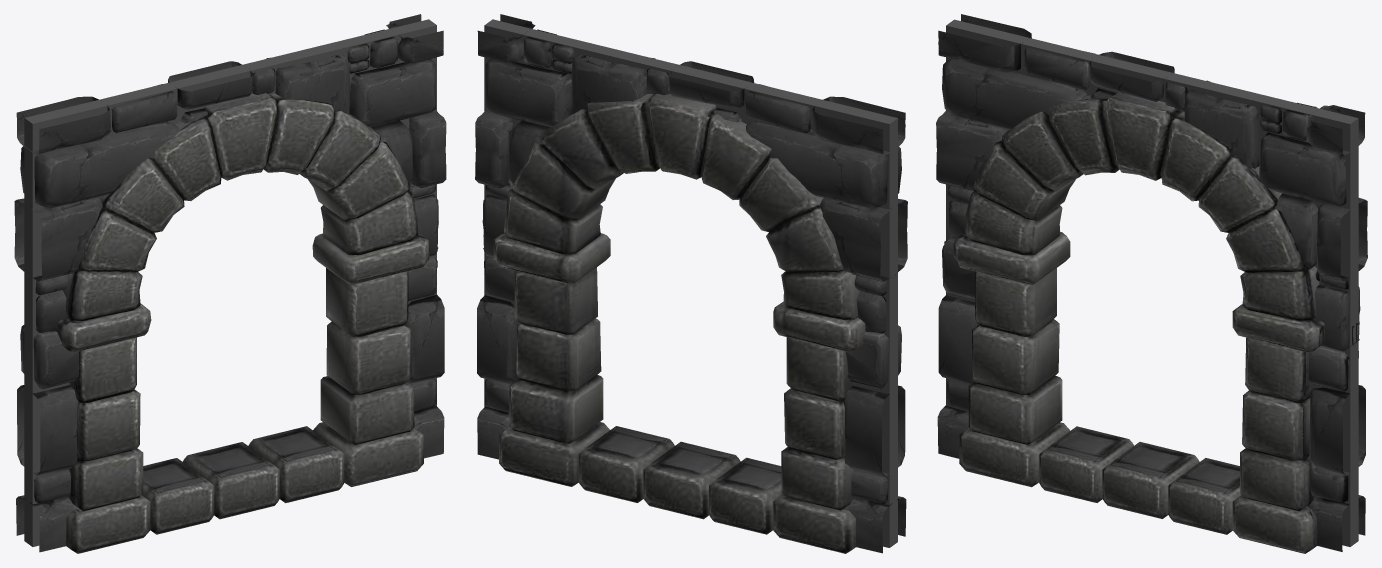
Rendered from Arch_04_onLedge.fbx.
3 renders of one model, left to right at view 1: azimuth 30°, elevation 25°; view 2: azimuth 150°, elevation 25°; view 3: azimuth 330°, elevation 25°, orthographic.
Parts seen in each view (by area): view 1: Archway_04; view 2: Archway_04; view 3: Archway_04.
Part boxes in pixels (x1,y1,x2,y2): Archway_04: (14,14,446,553); Archway_04: (475,14,907,553); Archway_04: (936,14,1367,553).
Size of the model in its own units: 302 by 304 by 49.25.
